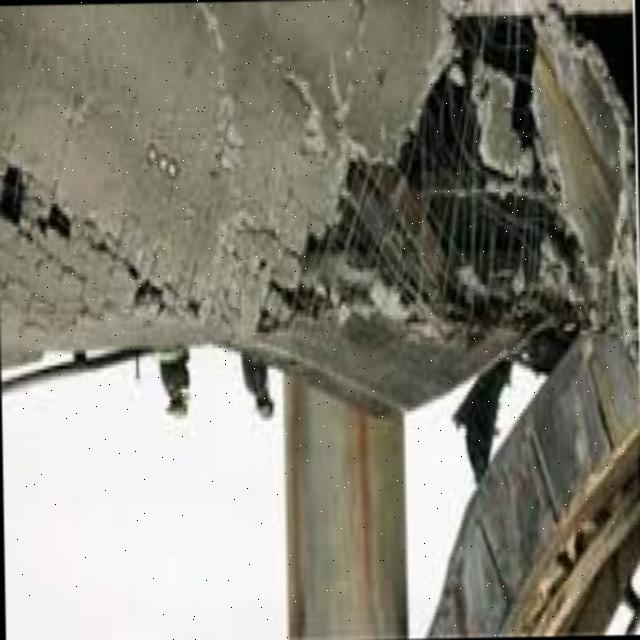bridge collapse: (42, 0, 640, 585)
